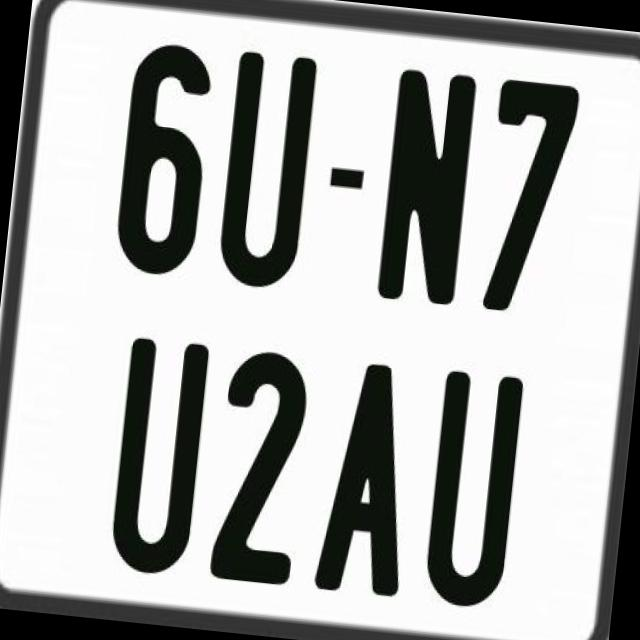2: (205, 346, 312, 590)
6: (108, 39, 215, 276)
7: (476, 78, 587, 323)
A: (314, 358, 426, 596)
N: (372, 68, 475, 314)
U: (210, 49, 316, 296), (104, 333, 208, 574), (419, 367, 521, 606)
